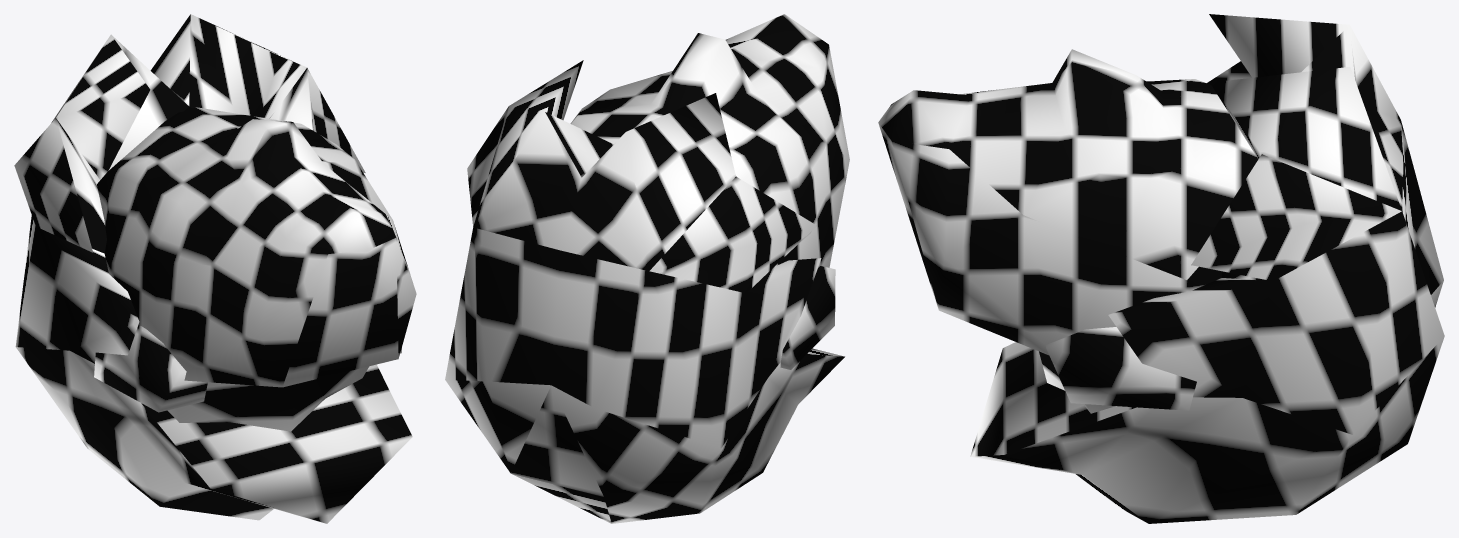
Rendered from infaunhumath2.dae.
3 renders of one model, left to right at view 1: azimuth 30°, elevation 25°; view 2: azimuth 150°, elevation 25°; view 3: azimuth 270°, elevation 25°, orthographic. The views are drawn at different scales.
Visible parts, largest first — view 1: face; view 2: face; view 3: face.
Part boxes in pixels (left/top/right/bottom): face: left=14, top=14, right=416, bottom=523; face: left=445, top=14, right=849, bottom=523; face: left=878, top=14, right=1444, bottom=523.
Size of the model in its own units: 1 by 1.54 by 1.38.
Materials: 1 (1 with a texture image).
